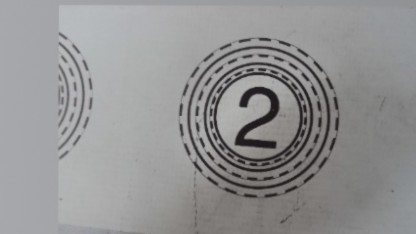2r: (176, 34, 340, 200)
